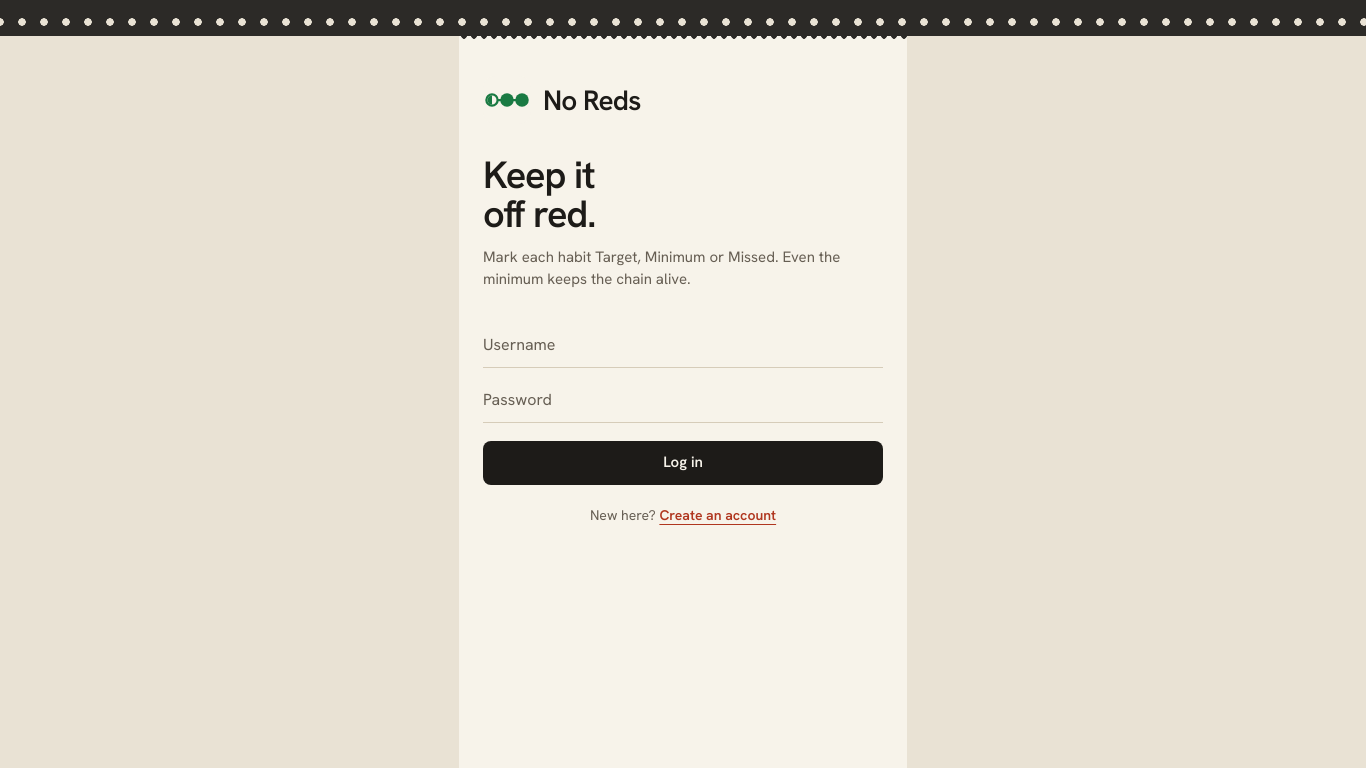
Scenario: LoginPage › shows the error for wrong credentials
The width and height of the screenshot is (1366, 768).
Type "bob" into the field labelled "Username" at (683, 345), box [483,322,883,368]
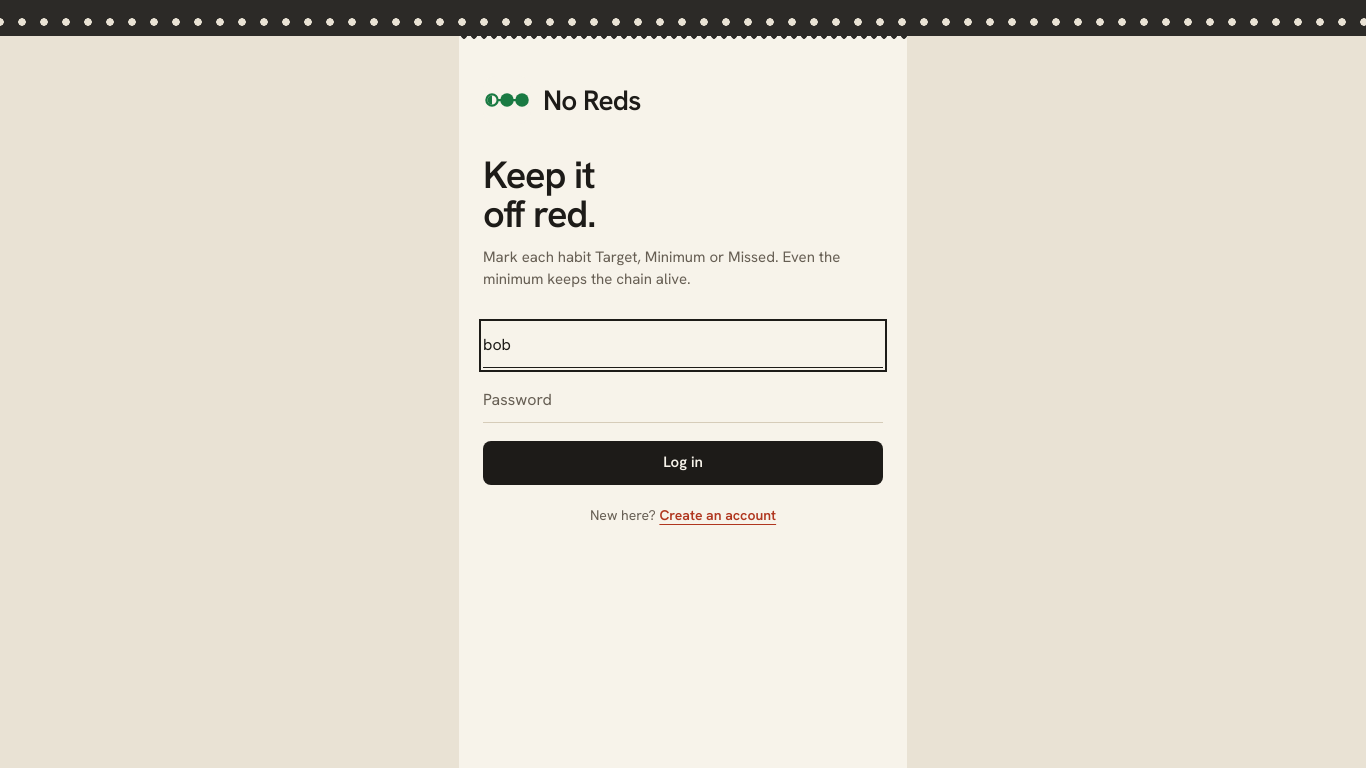
Type "nope-nope" into the password field labelled "Password" at (683, 400), box [483,378,883,422]
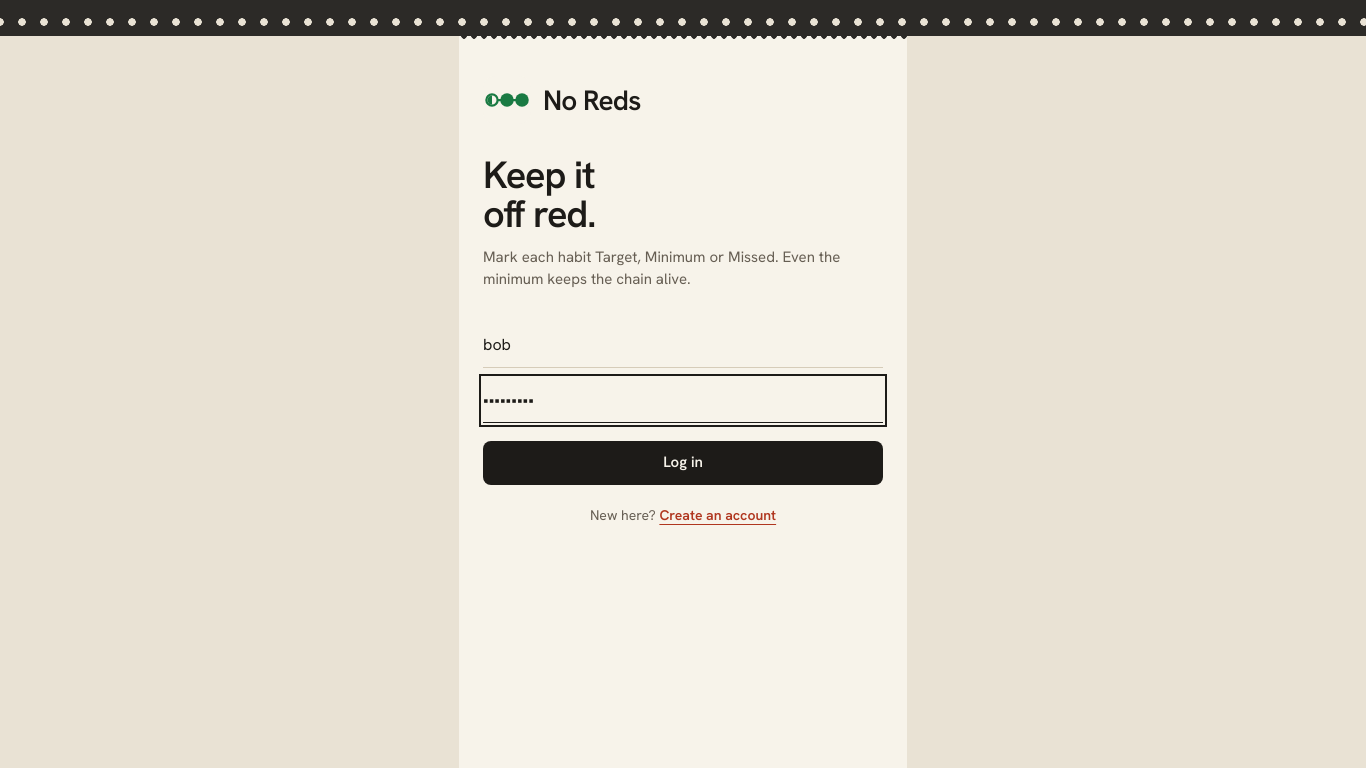
Click the button "Log in" at (683, 462), box [483,440,883,484]
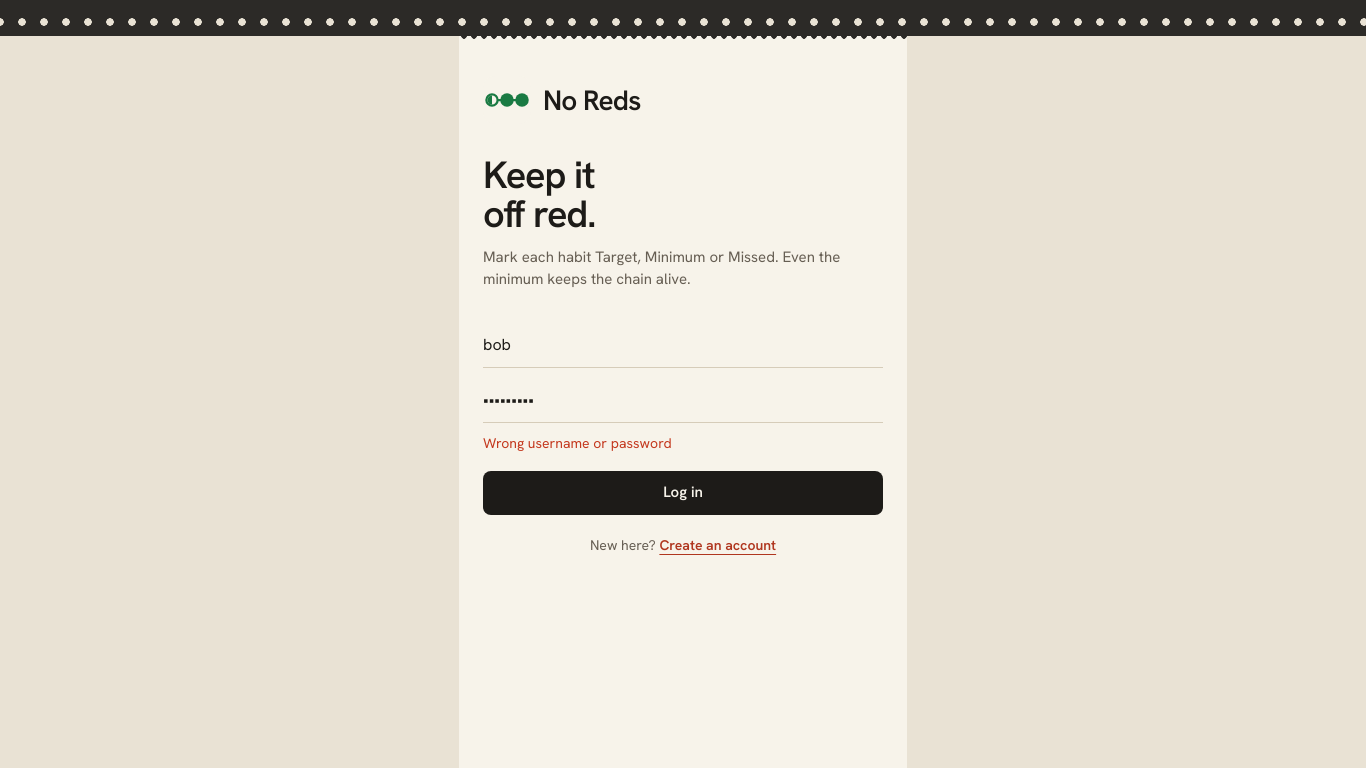
Check: the message reads "Wrong username or password", box [483,434,672,452]
